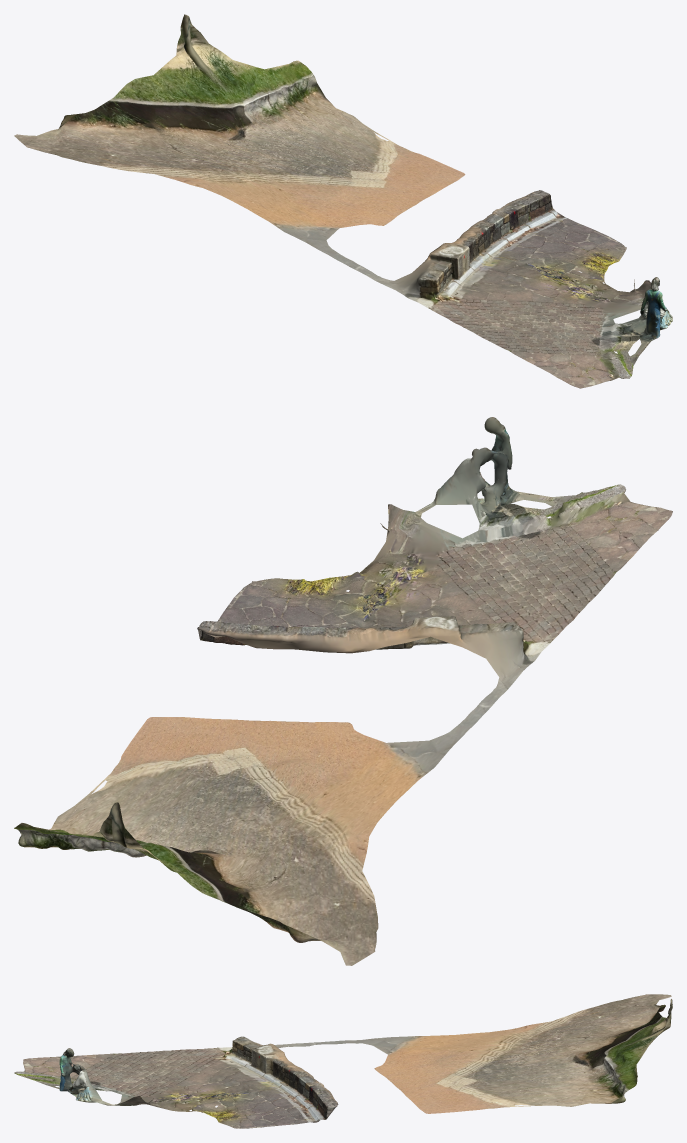
3 views of the same model, one above another, from view 1: azimuth 30°, elevation 25°; view 2: azimuth 150°, elevation 25°; view 3: azimuth 270°, elevation 25° (orthographic). The views are drawn at different scales.
Visible parts, largest first — view 1: baked_mesh_02d65960; view 2: baked_mesh_02d65960; view 3: baked_mesh_02d65960.
Part boxes in pixels (bbox=[...]): baked_mesh_02d65960: bbox=[14, 14, 672, 388]; baked_mesh_02d65960: bbox=[14, 417, 672, 965]; baked_mesh_02d65960: bbox=[14, 994, 672, 1128].
Bounding box in the file's own units: 0.8358 × 0.1899 × 1.71.
1 material, 1 textured.
